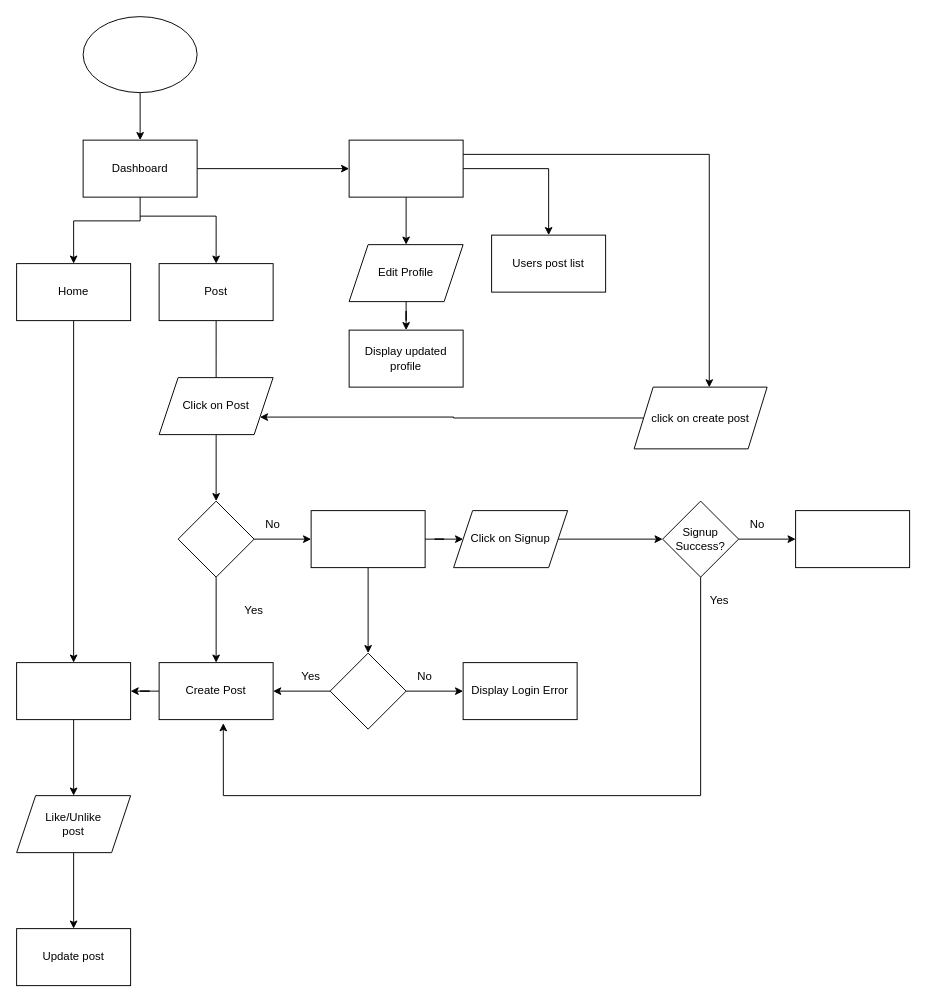
This 926x1002 diagram has some shape labels left out. Each missing label, with the centre of its shape:
"Display Post List" goes at [73,691].
"Display Signup Error" goes at [852,539].
"is Login?" goes at [215,538].
"Login" goes at [367,539].
"Login Success?" goes at [367,690].
"Profile" goes at [405,168].
"Start" goes at [139,54].
